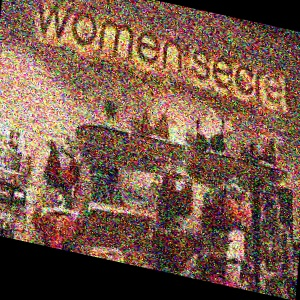women_secret: (283, 54, 300, 78)
